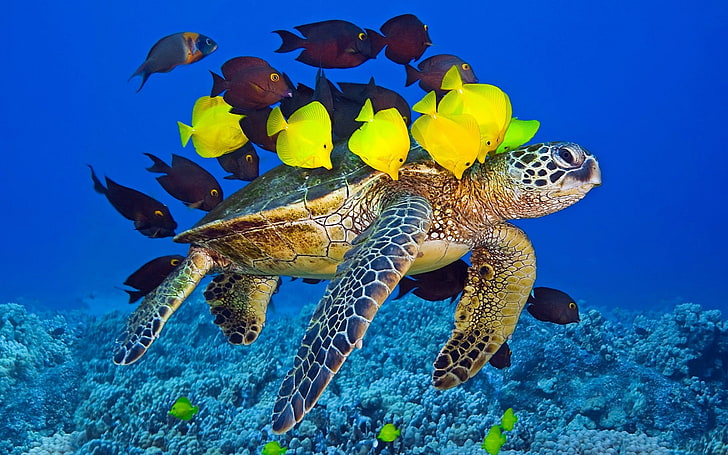fishLarge: (420, 95, 481, 192), (286, 12, 389, 65), (275, 98, 334, 176), (131, 27, 220, 78), (354, 110, 406, 189)
fishRound: (149, 126, 592, 402), (149, 400, 208, 432)
